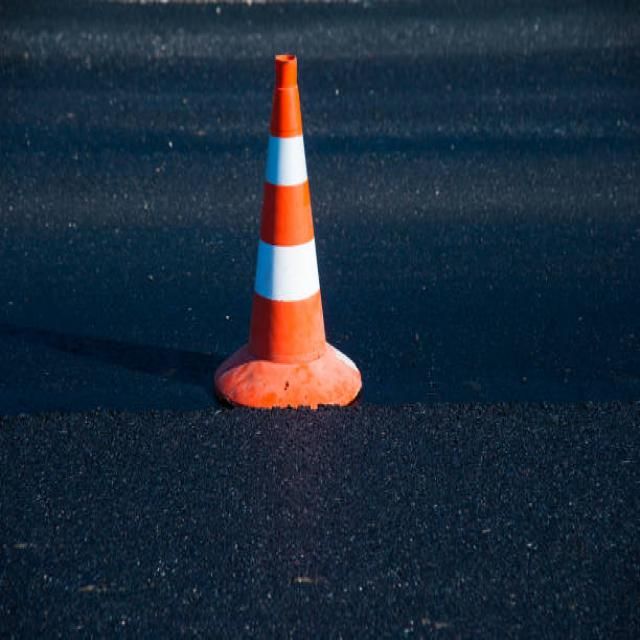Traffic Cone: (200, 19, 386, 437)
